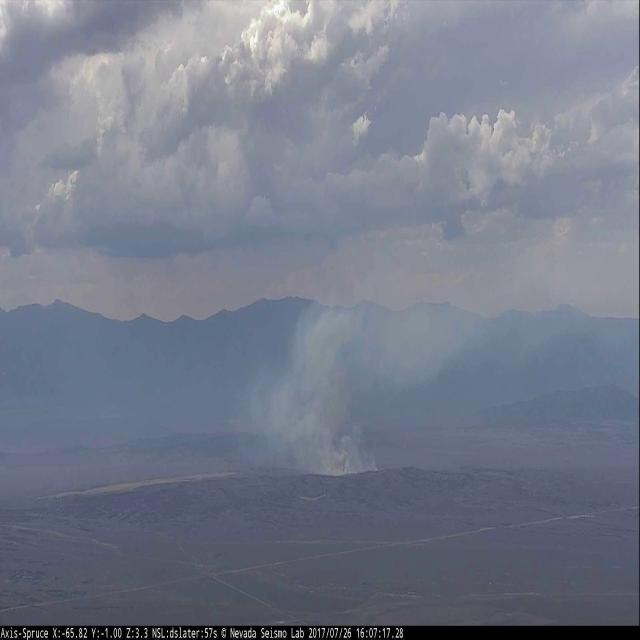smoke: (237, 211, 519, 486)
